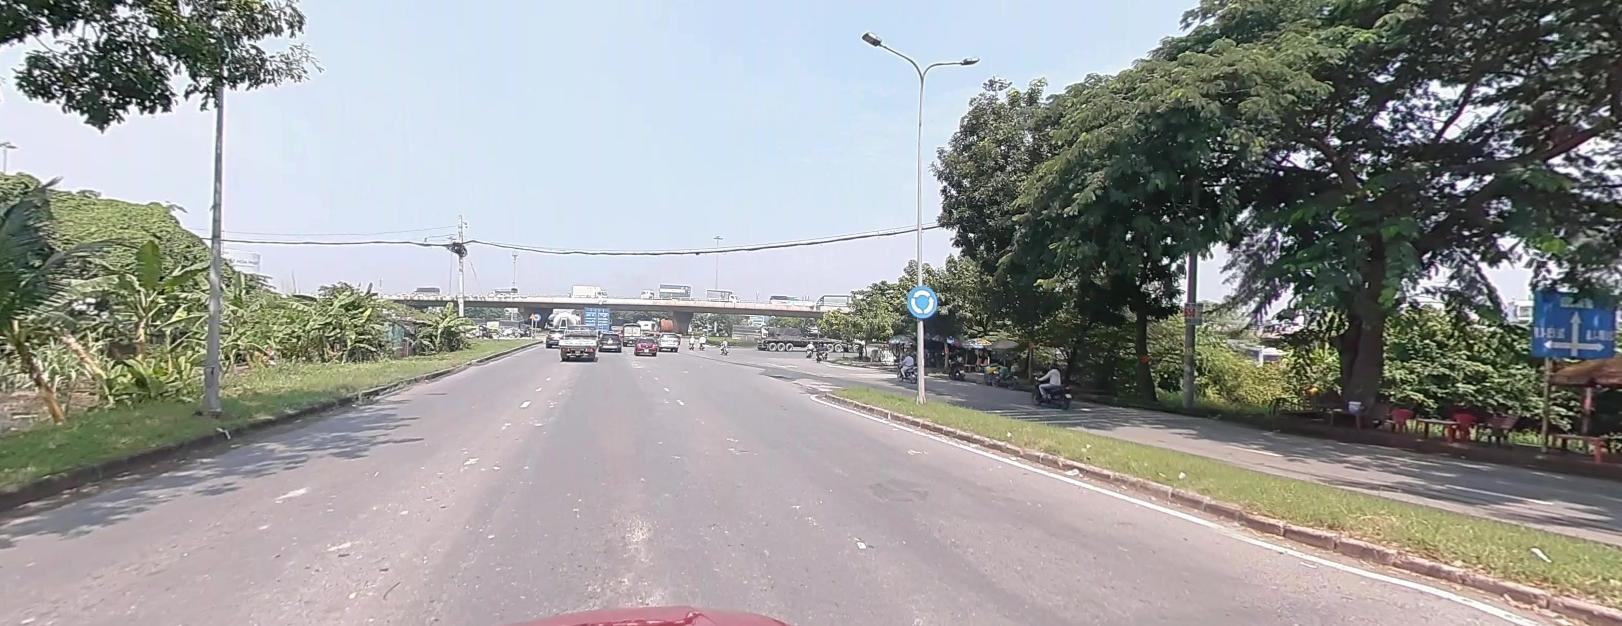Hieu lenh: (905, 284, 937, 317), (533, 311, 540, 320)
Nguy hiem: (529, 311, 535, 317)
